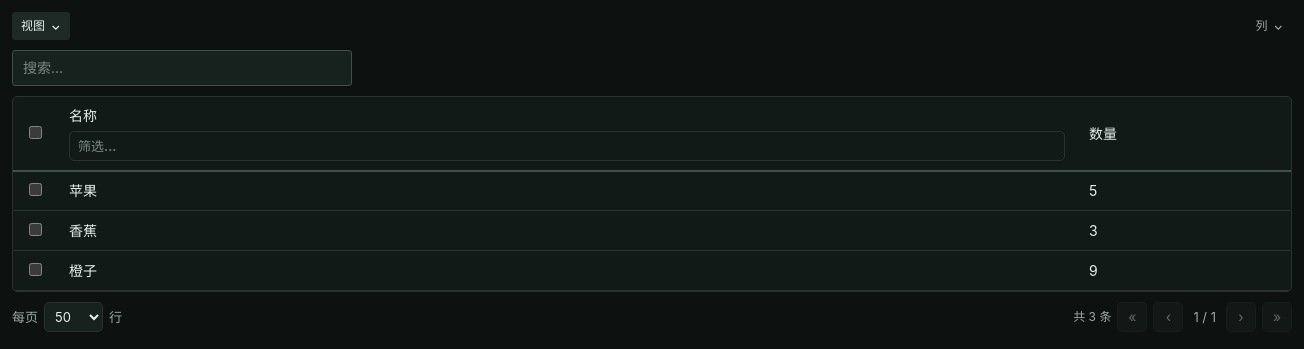
Test case: DataTable client mode › filters by a per-column text input
Type "香" into the field with placeholder "筛选…". click: (567, 146)
box: [69, 131, 1065, 161]
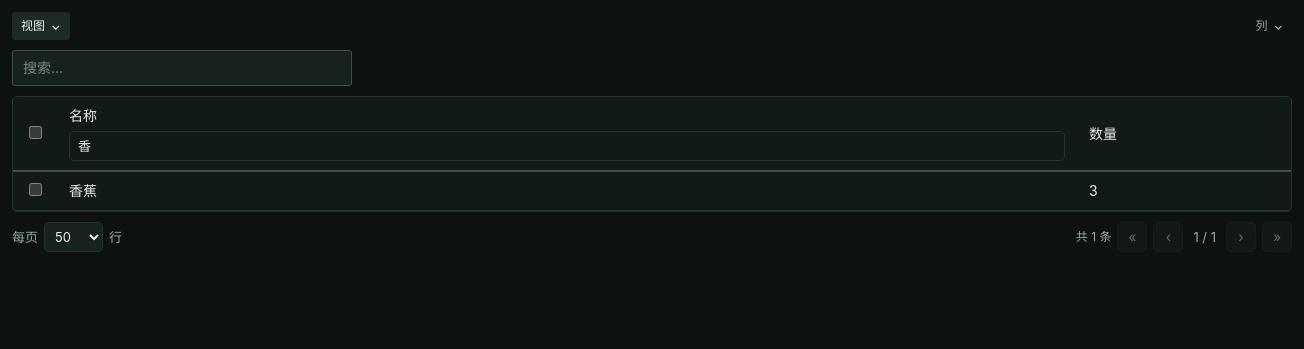
Expected: the text "香蕉" is shown, [57, 171, 1077, 211]
Expected: the text "苹果" is gone
